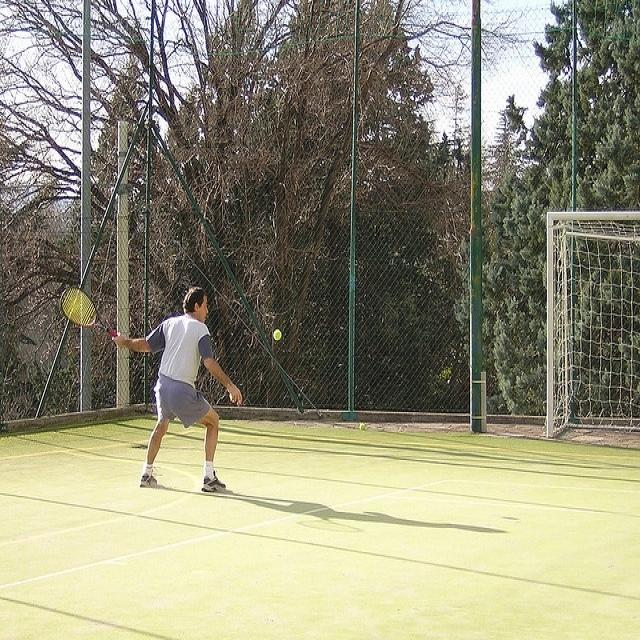ball: (273, 329, 284, 342), (358, 422, 366, 434)
